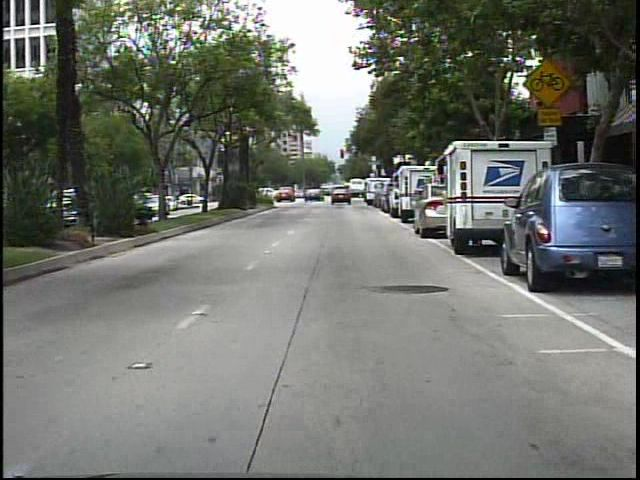car: (495, 161, 640, 287), (414, 180, 454, 236), (361, 176, 386, 208), (329, 186, 350, 206), (305, 187, 323, 202), (277, 186, 295, 201), (275, 184, 293, 199)
